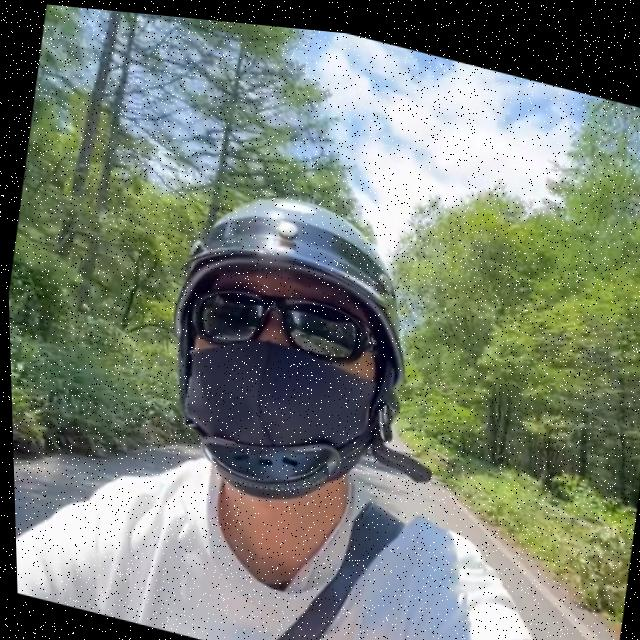helmet: (135, 159, 440, 534)
